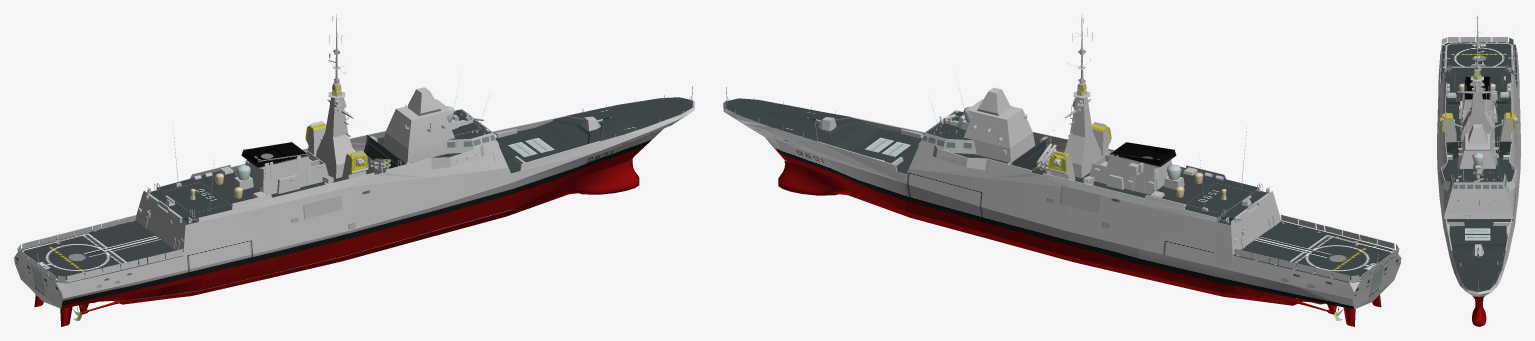
File: aquitaine_ship.glb
3 views of the same model, side by side, from view 1: azimuth 30°, elevation 25°; view 2: azimuth 150°, elevation 25°; view 3: azimuth 270°, elevation 25° (orthographic). The views are drawn at different scales.
Parts seen in each view (by area): view 1: HLOD-9000_9000_0; view 2: HLOD-9000_9000_0; view 3: HLOD-9000_9000_0.
Boxes of the visible parts, x1,y1,x2,y2 form: HLOD-9000_9000_0: [14, 14, 694, 326]; HLOD-9000_9000_0: [723, 14, 1401, 326]; HLOD-9000_9000_0: [1437, 16, 1520, 326].
Bounding box in the file's own units: 3.44 × 1.23 × 0.4715.
Materials: 1 (1 with a texture image).
